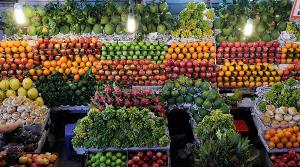apple: (95, 61, 219, 87), (32, 36, 102, 61), (216, 42, 282, 66), (101, 42, 169, 60), (13, 150, 58, 167), (85, 150, 128, 167), (128, 151, 170, 167), (0, 59, 32, 78)
